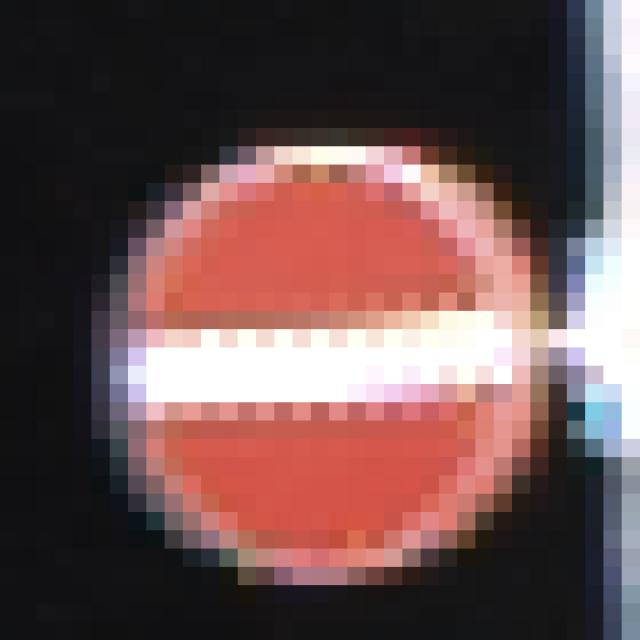No Entry: (93, 111, 532, 550)
